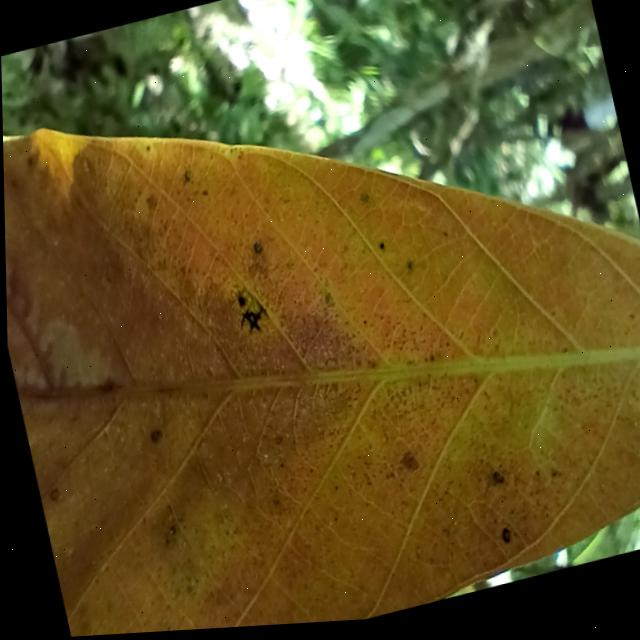Colletotrichum: (488, 474, 503, 493), (145, 430, 160, 447), (497, 533, 510, 551), (235, 298, 245, 309), (162, 629, 176, 633), (377, 247, 383, 256)
Corynespora: (235, 304, 268, 342)
